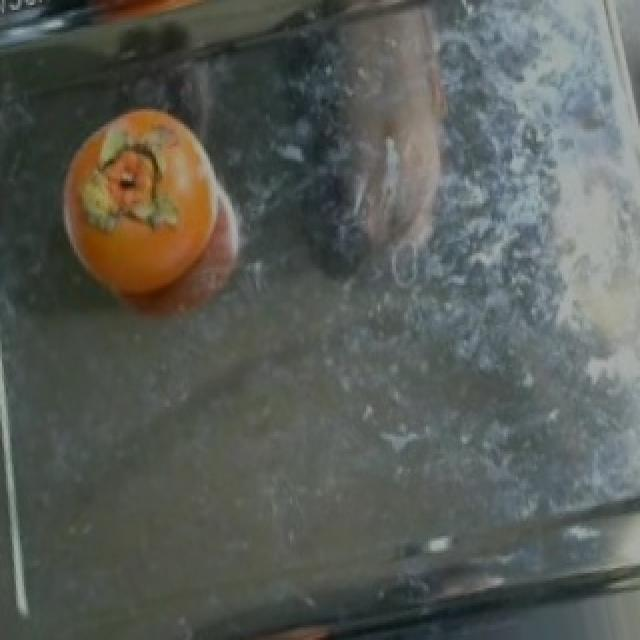Fruit: (40, 85, 260, 332)
